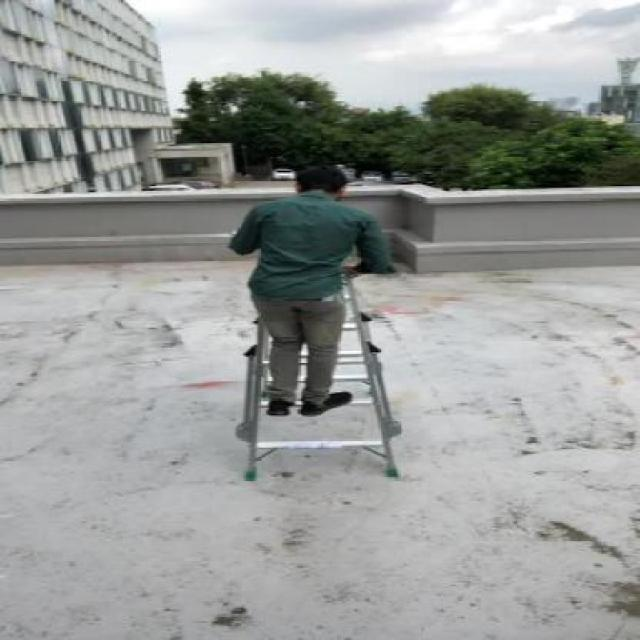hard hat: (204, 233, 436, 492)
vest: (232, 154, 404, 426)
